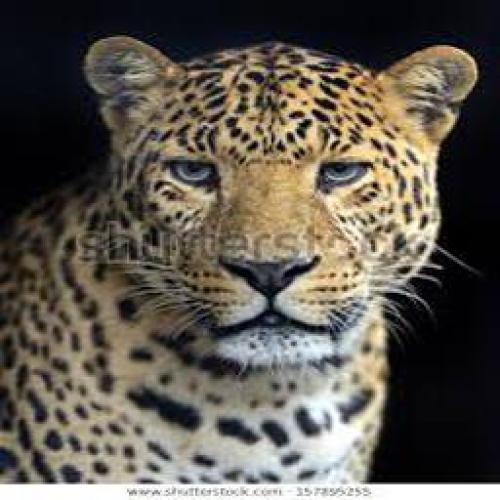amur_leopard-endangered: (0, 37, 483, 440)
